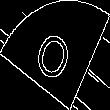O_SW: (31, 22, 79, 88)
